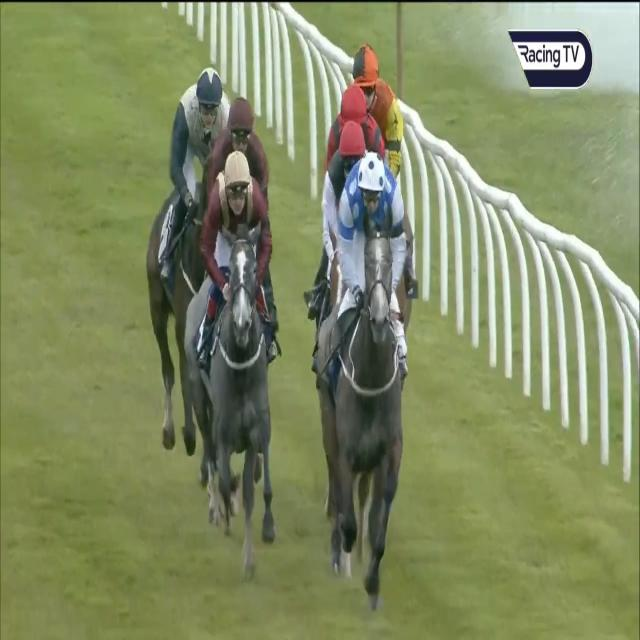horses-racing: (170, 156, 290, 538), (322, 153, 419, 609), (145, 59, 236, 431), (309, 131, 396, 256), (202, 90, 286, 207), (348, 28, 408, 166), (326, 82, 392, 156)
